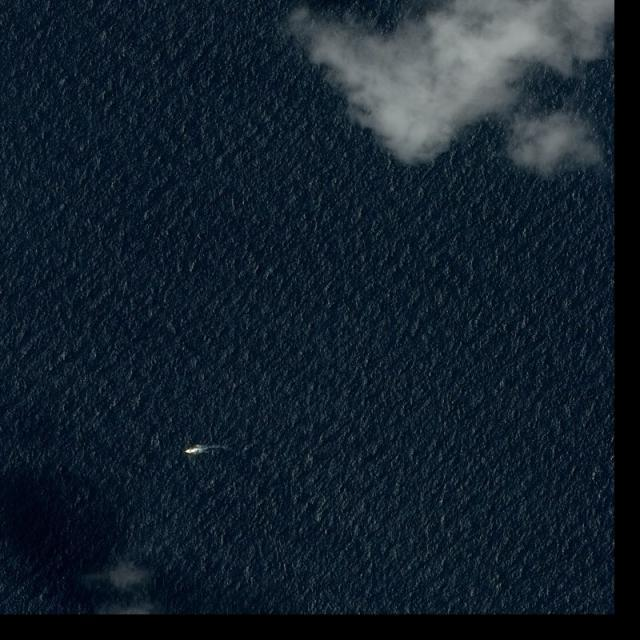ship: (182, 447, 198, 456)
